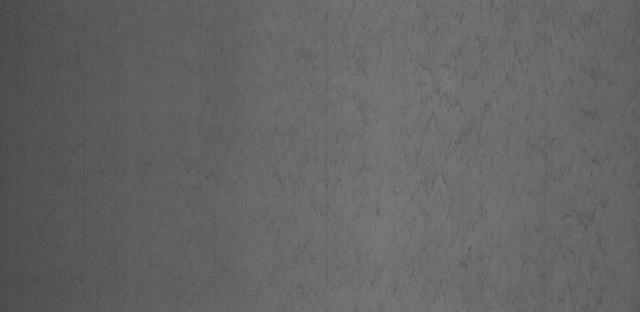silk_spot: (262, 11, 618, 292)
